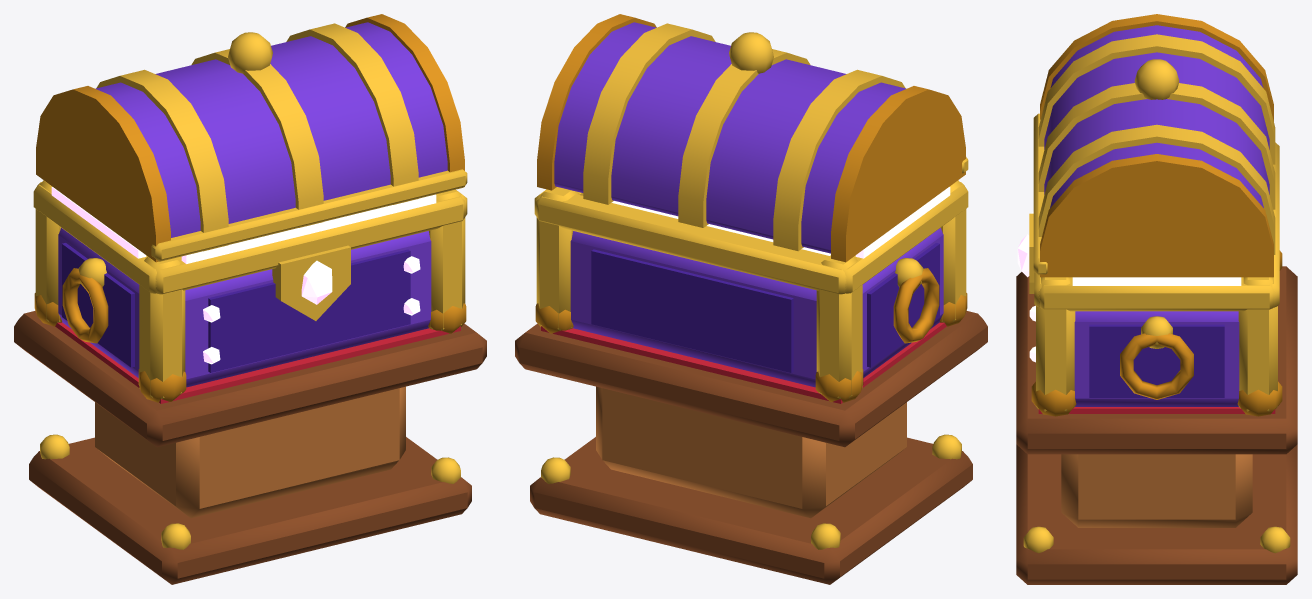
Rendered from pandora-box.glb.
3 views of the same model, side by side, from view 1: azimuth 30°, elevation 25°; view 2: azimuth 150°, elevation 25°; view 3: azimuth 270°, elevation 25° (orthographic). The views are drawn at different scales.
Parts seen in each view (by area): view 1: pandora_base, pandora_lid, pandora_glow; view 2: pandora_base, pandora_lid, pandora_glow; view 3: pandora_base, pandora_lid, pandora_glow.
Part boxes in pixels (x1=…): pandora_base: x1=14, y1=180, x2=486, y2=584; pandora_lid: x1=36, y1=14, x2=467, y2=262; pandora_glow: x1=51, y1=187, x2=436, y2=364; pandora_base: x1=515, y1=180, x2=987, y2=584; pandora_lid: x1=537, y1=14, x2=968, y2=262; pandora_glow: x1=855, y1=187, x2=950, y2=258; pandora_base: x1=1016, y1=142, x2=1297, y2=584; pandora_lid: x1=1033, y1=14, x2=1275, y2=277; pandora_glow: x1=1017, y1=211, x2=1241, y2=362.
Size of the model in its own units: 0.6866 by 0.892 by 0.5.
